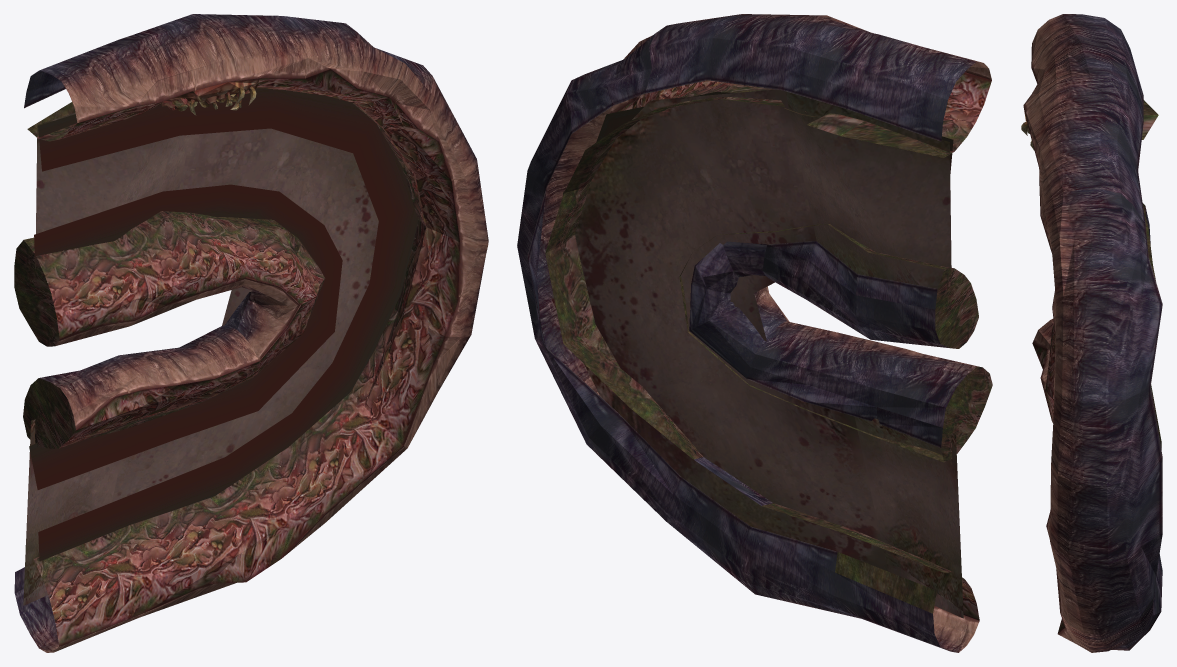
File: huodongfuben_655_changdaoqiangbi_c.obj
3 views of the same model, side by side, from view 1: azimuth 30°, elevation 25°; view 2: azimuth 150°, elevation 25°; view 3: azimuth 270°, elevation 25° (orthographic). The views are drawn at different scales.
Visible parts, largest first — view 1: huodongfuben_655_changdaoqiangbi_c; view 2: huodongfuben_655_changdaoqiangbi_c; view 3: huodongfuben_655_changdaoqiangbi_c.
Part boxes in pixels (x1,y1,x2,y2): huodongfuben_655_changdaoqiangbi_c: (14,14,488,652); huodongfuben_655_changdaoqiangbi_c: (517,14,992,652); huodongfuben_655_changdaoqiangbi_c: (1021,14,1162,652).
Bounding box in the file's own units: 2248 × 2834 × 626.
5 materials, 5 textured.
